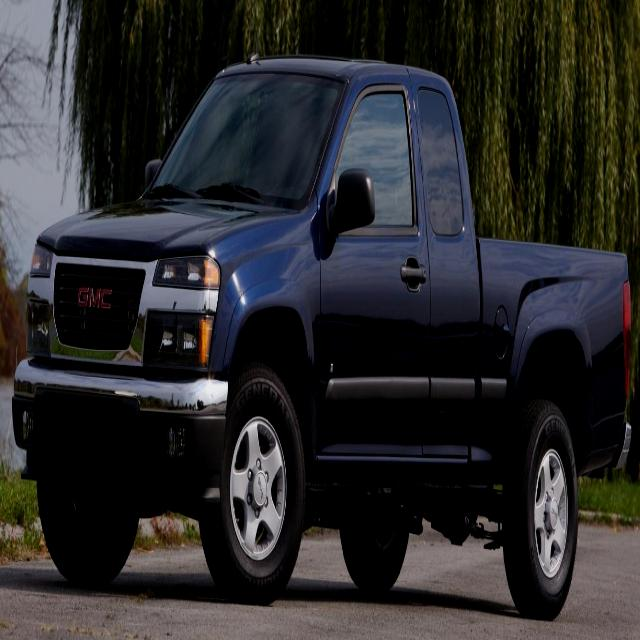CMT: (31, 58, 640, 610)
